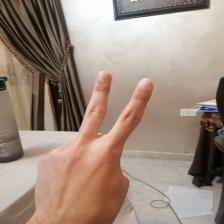two: (39, 71, 158, 219)
